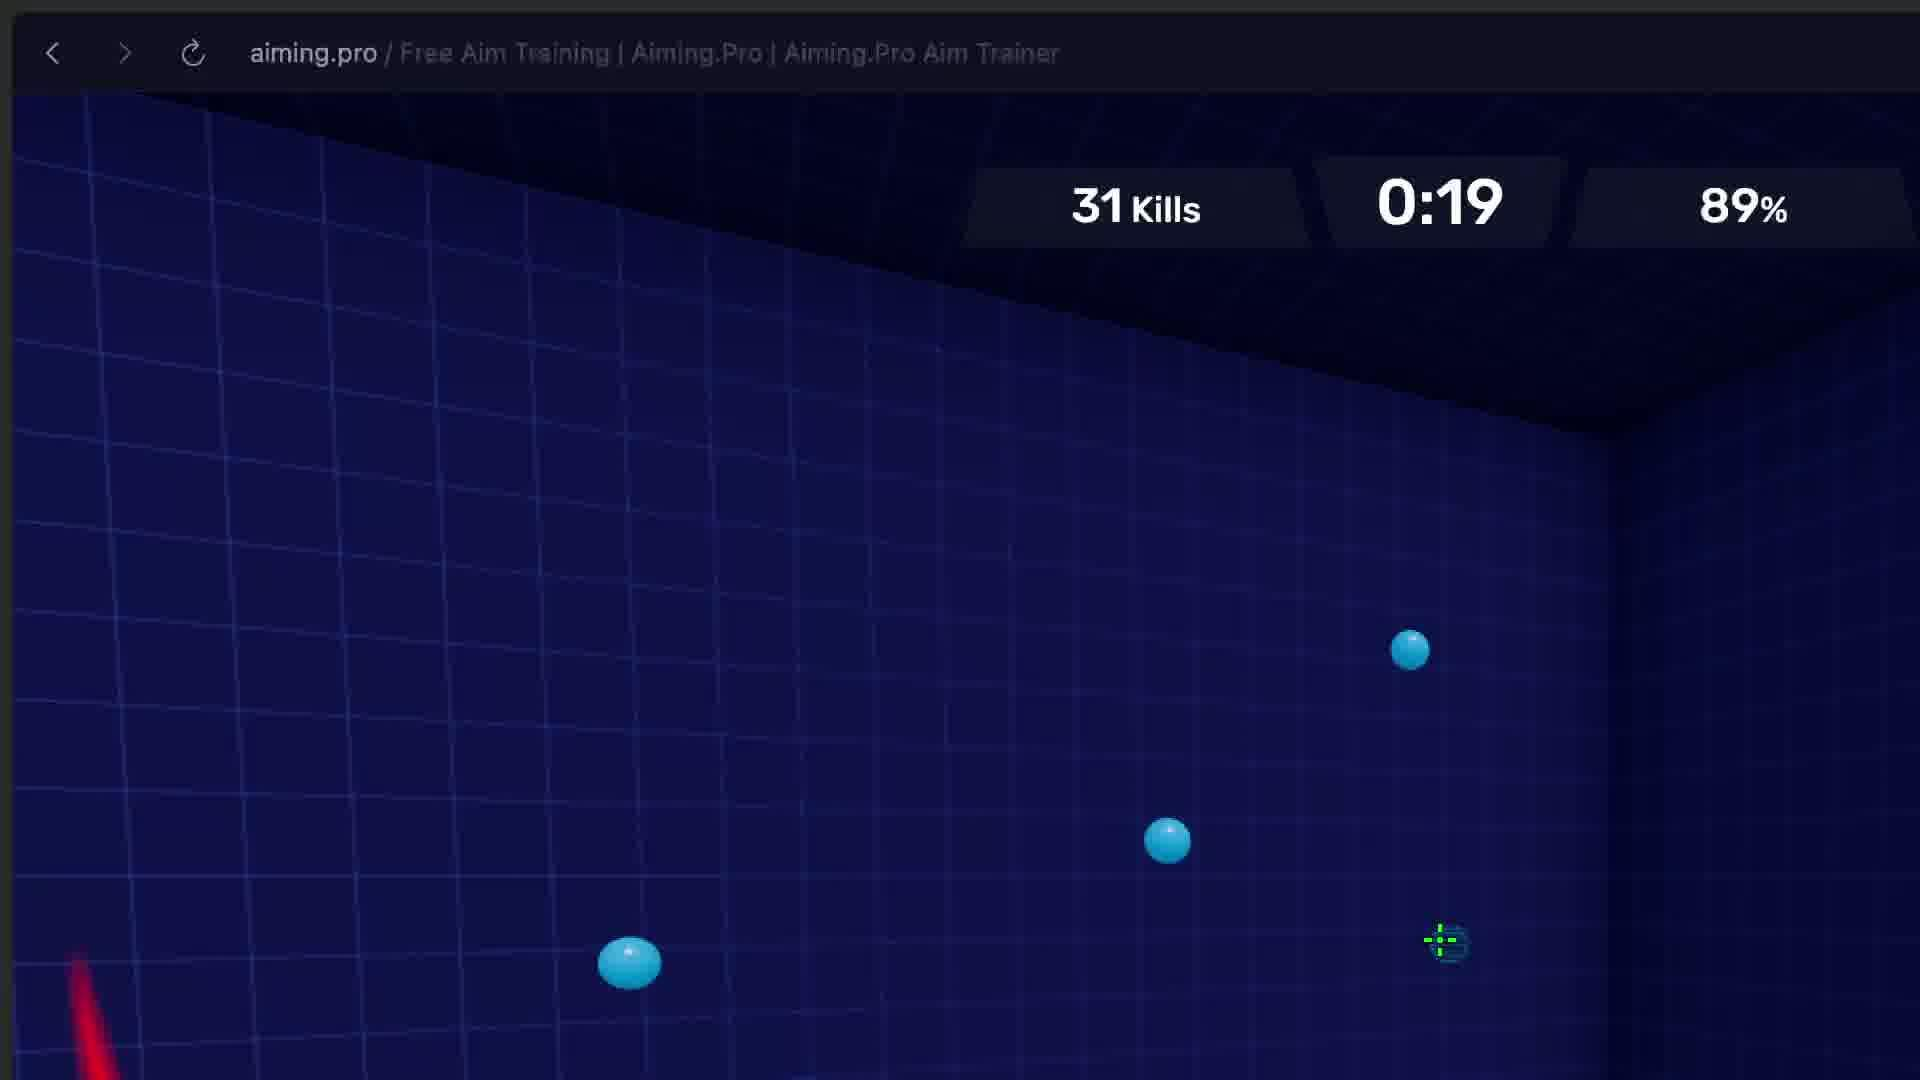target: (597, 936, 662, 990), (1145, 818, 1191, 864), (1389, 629, 1429, 670)
